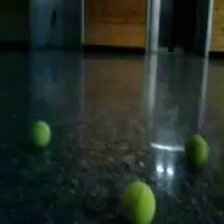tennis: (117, 181, 155, 224), (183, 134, 211, 168), (30, 120, 52, 147)
